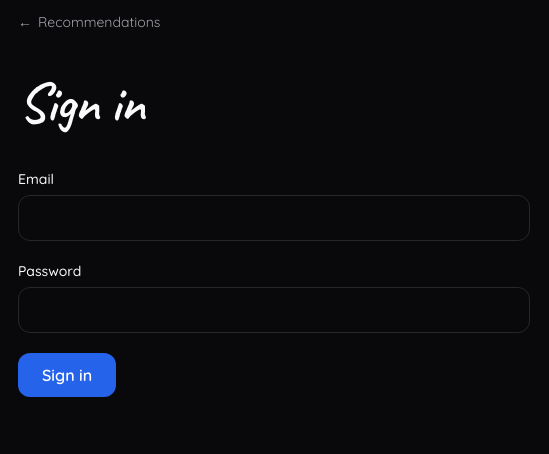
Test: App with sharing connected › reports a wrong password on the sign-in page
This screenshot has width=549, height=454.
In the field labelled "Email": (274, 218) [18, 195, 530, 241], type "me@example.com"
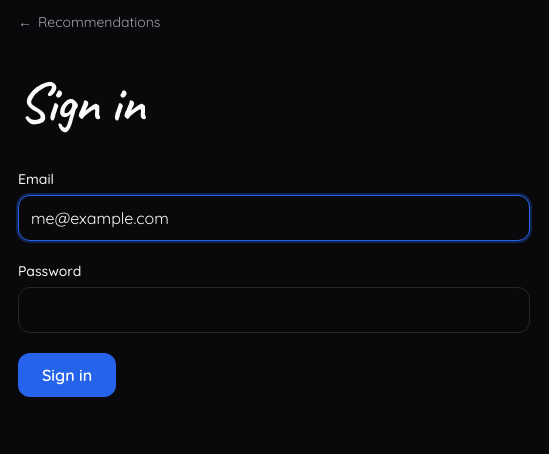
In the password field labelled "Password": (274, 310) [18, 287, 530, 333], type "nope"
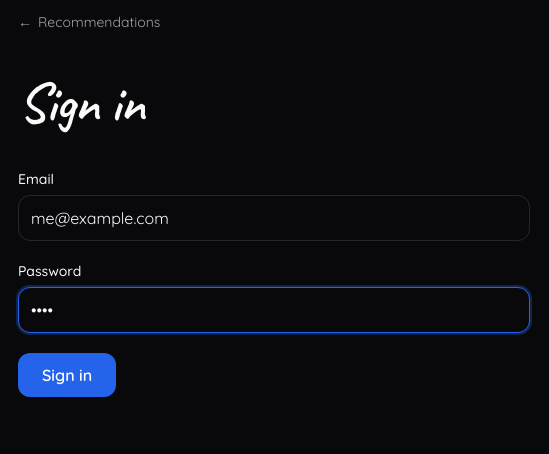
Click the button "Sign in": click(67, 375) [18, 353, 116, 397]
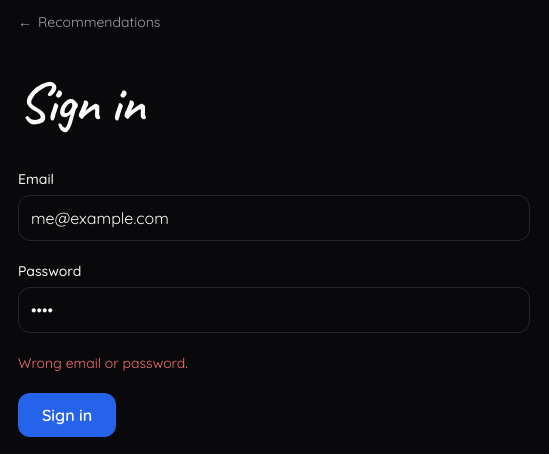
Now the message reads "Wrong email or password.", box [18, 354, 188, 372]
